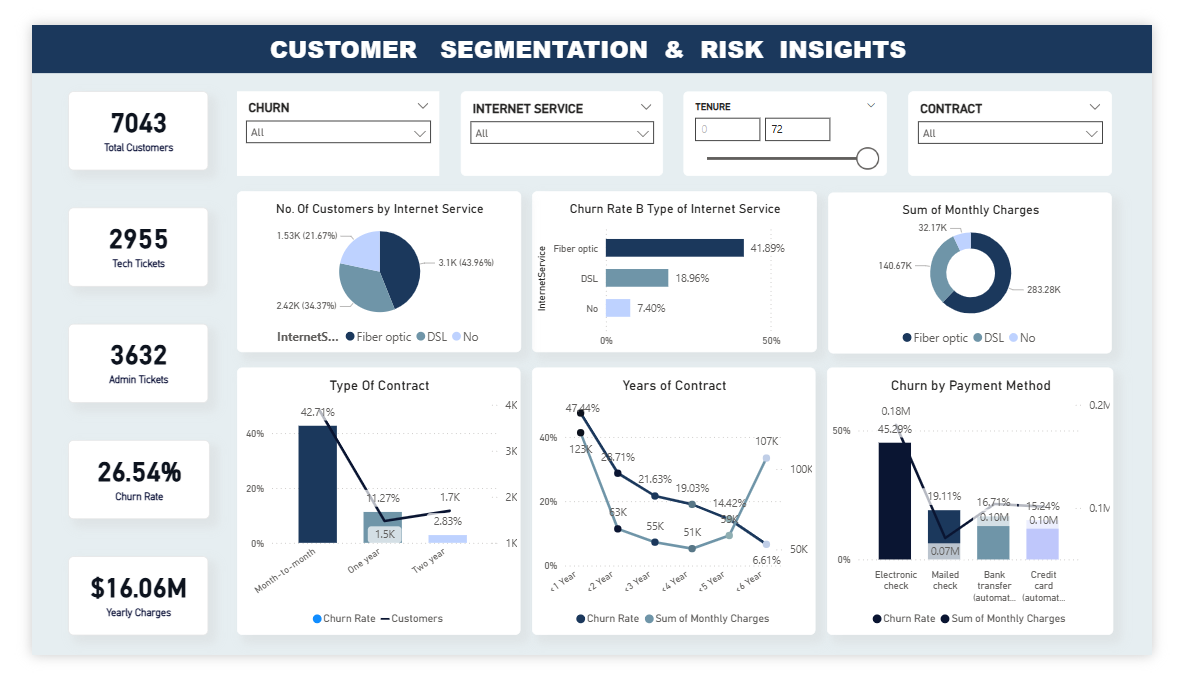

Layout of this report page (visuals, bound fields, positions):
{"tool":"powerbi","page":{"name":"Customer Risk Analysis","canvas":[1280,720],"ordinal":1},"visuals":[{"type":"shape","box":[0,0,1280,55],"z":0},{"type":"textbox","box":[0,2.9,1280,55.7],"z":1000},{"type":"slicer","fields":{"Values":["Churn.Churn"]},"box":[234.3,75.7,231.4,97.1],"z":3000},{"type":"slicer","fields":{"Values":["Churn.InternetService"]},"box":[489.5,75.7,231.4,97.1],"z":4000},{"type":"slicer","fields":{"Values":["Churn.tenure"]},"box":[744.8,75.7,232.9,97.1],"z":5000},{"type":"slicer","fields":{"Values":["Churn.Contract"]},"box":[1001.4,75.7,232.9,97],"z":6000},{"type":"card","fields":{"Values":["CountNonNull(01 Churn-Dataset.customerID)"]},"box":[41.4,75.7,160,90],"z":7000},{"type":"card","fields":{"Values":["Churn.% Churn Rate"]},"box":[41.4,474.3,161.4,90],"z":8000},{"type":"card","fields":{"Values":["Sum(Churn.TotalCharges)"]},"box":[41.4,607.1,160,90],"z":9000},{"type":"card","fields":{"Values":["Sum(Churn.numAdminTickets)"]},"box":[41.4,341.4,160,90],"z":10000},{"type":"card","fields":{"Values":["Sum(Churn.numTechTickets)"]},"box":[41.4,208.6,160,90],"z":11000},{"type":"clusteredBarChart","title":"Churn Rate B Type of Internet Service","fields":{"Category":["Churn.InternetService"],"Y":["Churn.% Churn Rate"]},"box":[571.4,190,325.7,184.3],"z":12000},{"type":"pieChart","title":"No. Of Customers by Internet Service","fields":{"Y":["CountNonNull(Churn.customerID)"],"Category":["Churn.InternetService"]},"box":[234.3,190,325,184.3],"z":13000},{"type":"donutChart","title":"Sum of Monthly Charges","fields":{"Category":["Churn.InternetService"],"Y":["Sum(Churn.MonthlyCharges)"]},"box":[910,191.4,324.3,184.3],"z":14000},{"type":"lineStackedColumnComboChart","title":"Type Of Contract","fields":{"Y2":["CountNonNull(Churn.customerID)"],"Y":["Churn.% Churn Rate"],"Category":["Churn.Contract"]},"box":[234.3,391.4,324.3,305.7],"z":15000},{"type":"lineChart","title":"Years of Contract","fields":{"Category":["Churn.Tenure(in years)"],"Y":["Churn.% Churn Rate"],"Y2":["Sum(Churn.MonthlyCharges)"]},"box":[571.4,391.4,324.3,305.7],"z":16000},{"type":"lineStackedColumnComboChart","title":"Churn by Payment Method","fields":{"Y":["Churn.% Churn Rate"],"Y2":["Sum(Churn.MonthlyCharges)"],"Category":["Churn.PaymentMethod"]},"box":[908.6,391.4,327.1,305.7],"z":17000}]}

Visuals, with their boxes in screenshot pixels (x1, y1, x2, y2), scaled from the page's 1280x720 canvas onto the 1184x682 screenshot:
shape: (0, 0, 1183, 52)
textbox: (0, 3, 1183, 56)
slicer - Churn.Churn: (217, 72, 431, 164)
slicer - Churn.InternetService: (453, 72, 667, 164)
slicer - Churn.tenure: (689, 72, 904, 164)
slicer - Churn.Contract: (926, 72, 1142, 164)
card - CountNonNull(01 Churn-Dataset.customerID): (38, 72, 186, 157)
card - Churn.% Churn Rate: (38, 449, 188, 535)
card - Sum(Churn.TotalCharges): (38, 575, 186, 660)
card - Sum(Churn.numAdminTickets): (38, 323, 186, 409)
card - Sum(Churn.numTechTickets): (38, 198, 186, 283)
"Churn Rate B Type of Internet Service" clusteredBarChart: (529, 180, 830, 355)
"No. Of Customers by Internet Service" pieChart: (217, 180, 517, 355)
"Sum of Monthly Charges" donutChart: (842, 181, 1142, 356)
"Type Of Contract" lineStackedColumnComboChart: (217, 371, 517, 660)
"Years of Contract" lineChart: (529, 371, 829, 660)
"Churn by Payment Method" lineStackedColumnComboChart: (840, 371, 1143, 660)
